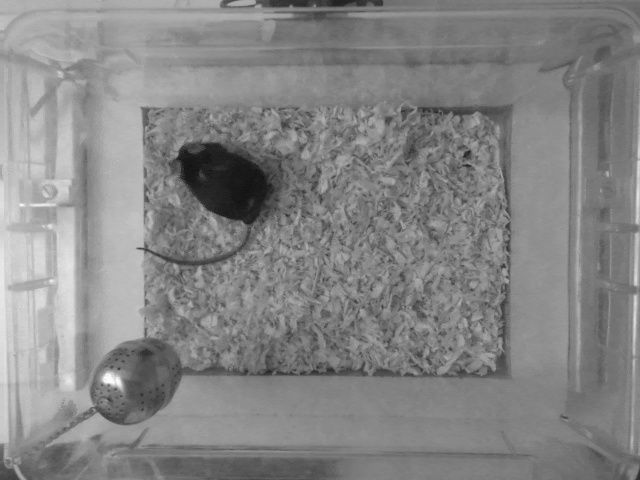mice: (136, 136, 279, 267)
